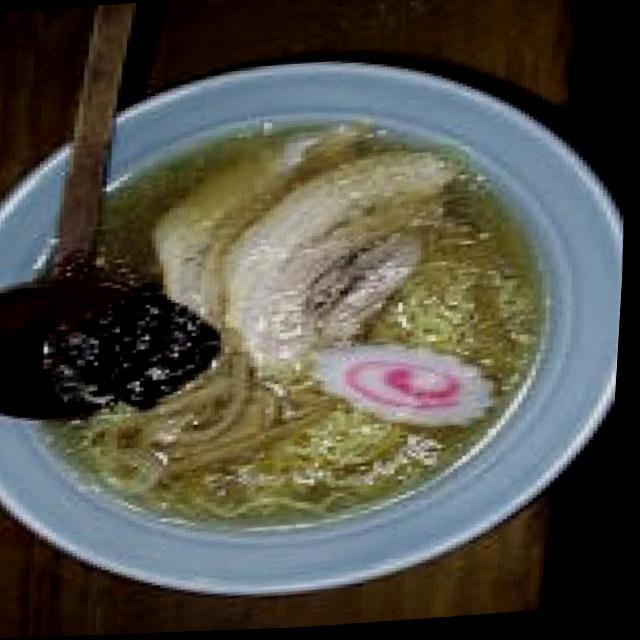面条主食: (0, 36, 637, 622)
